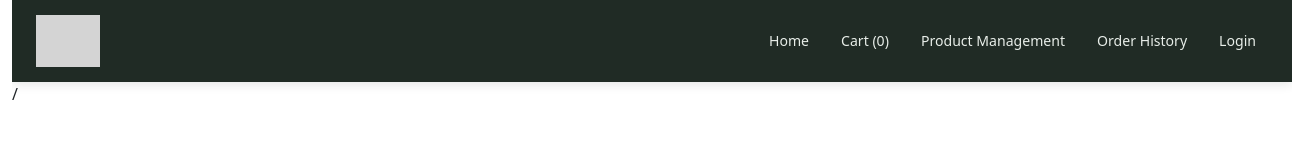
NavBar navigation › navigates to Product Management without a document reload
Click the link "Product Management" at (993, 41), box [921,31,1065,50]
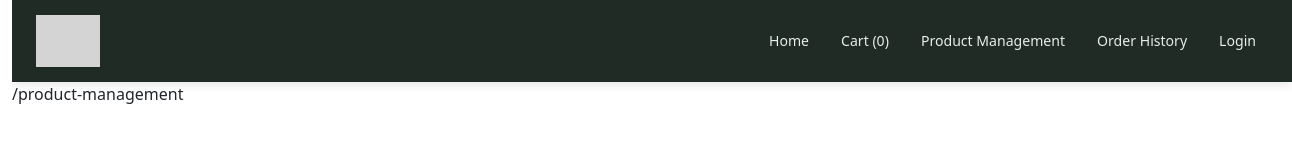
Expected: the text with test id "current-path" reads "/product-management", [12,83,183,105]
